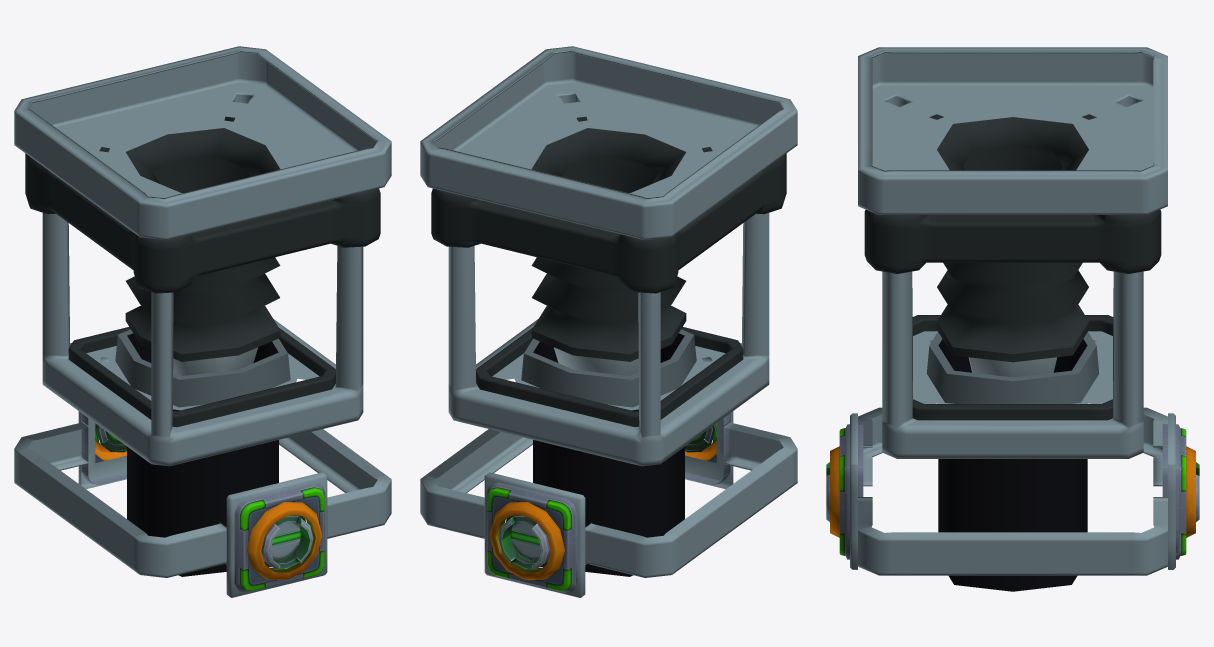
Rendered from fant_miner_1.obj.
The picture shows the model from 3 angles, left to right: view 1: azimuth 30°, elevation 25°; view 2: azimuth 150°, elevation 25°; view 3: azimuth 270°, elevation 25°; orthographic projection. The views are drawn at different scales.
Visible parts, largest first — view 1: fant_miner_Cube.001; view 2: fant_miner_Cube.001; view 3: fant_miner_Cube.001.
Part boxes in pixels (x1,y1,x2,y2): fant_miner_Cube.001: (14,46,391,597); fant_miner_Cube.001: (420,46,797,597); fant_miner_Cube.001: (826,47,1199,591).
Bounding box in the file's own units: 5 × 9 × 6.02.
